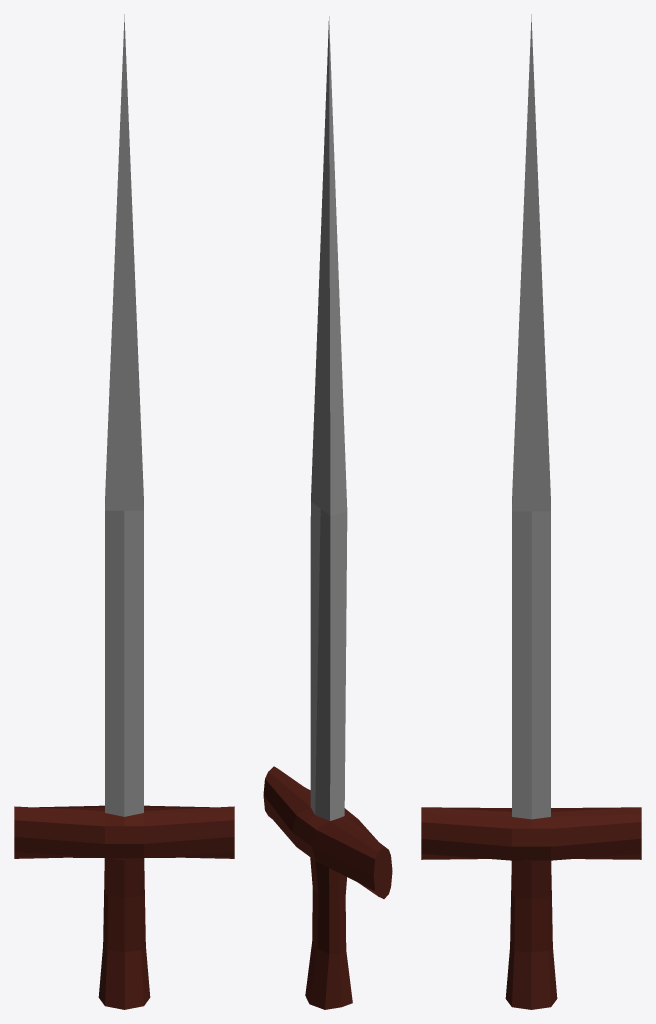
Rendered from sword.fbx.
3 renders of one model, left to right at view 1: azimuth 90°, elevation 25°; view 2: azimuth 210°, elevation 25°; view 3: azimuth 270°, elevation 25°, orthographic.
Parts seen in each view (by area): view 1: Cube; view 2: Cube; view 3: Cube.
Part boxes in pixels (bbox=[...]): Cube: bbox=[14, 14, 234, 1009]; Cube: bbox=[263, 16, 392, 1009]; Cube: bbox=[421, 14, 641, 1009].
Size of the model in its own units: 28.81 by 540 by 109.
